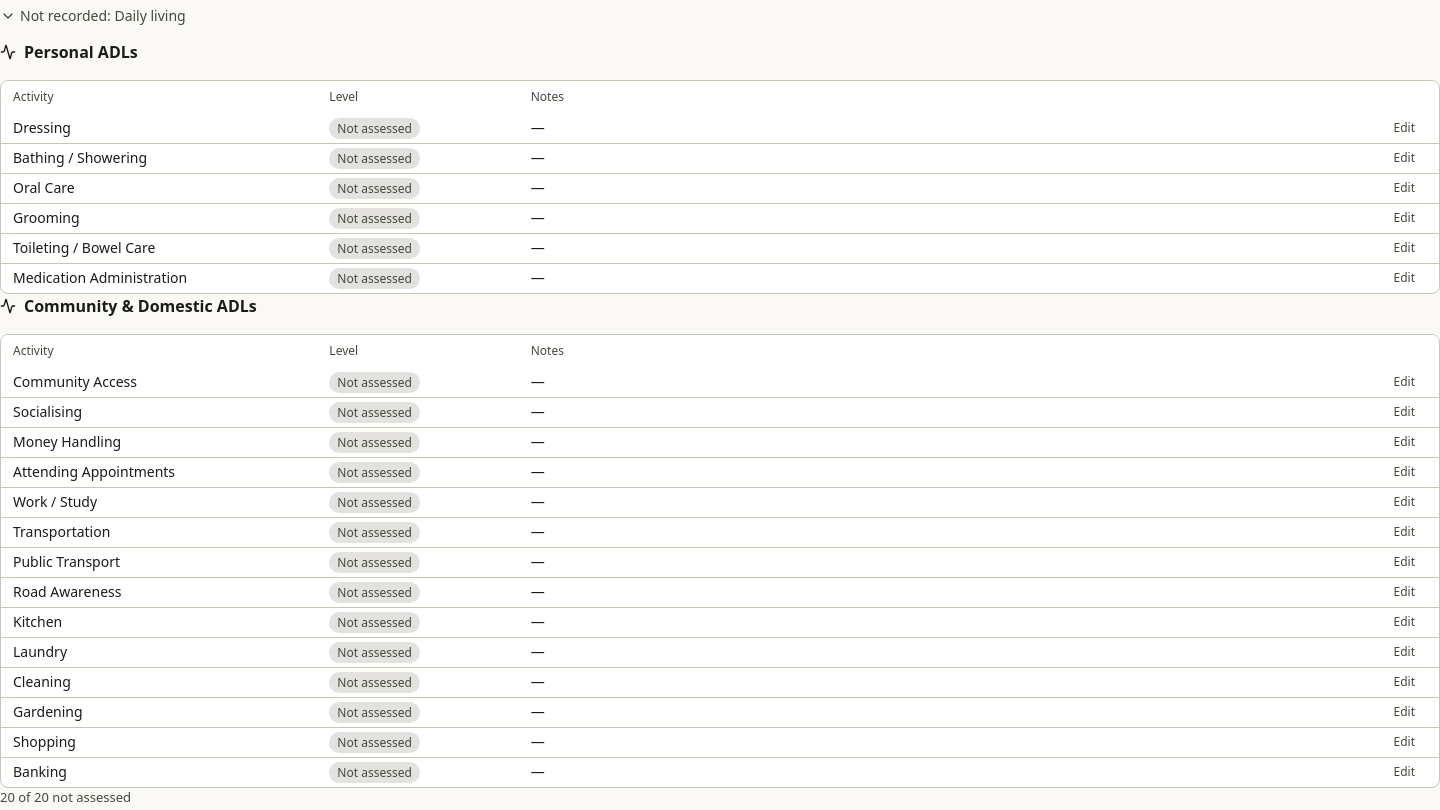
Test case: ParticipantAdlAssessmentsSection › the modal exposes a real accessible name on the Level radiogroup
Click the button "Edit" in the row of "Grooming". click: coordinates (1404, 218)
box: [1382,206,1427,230]
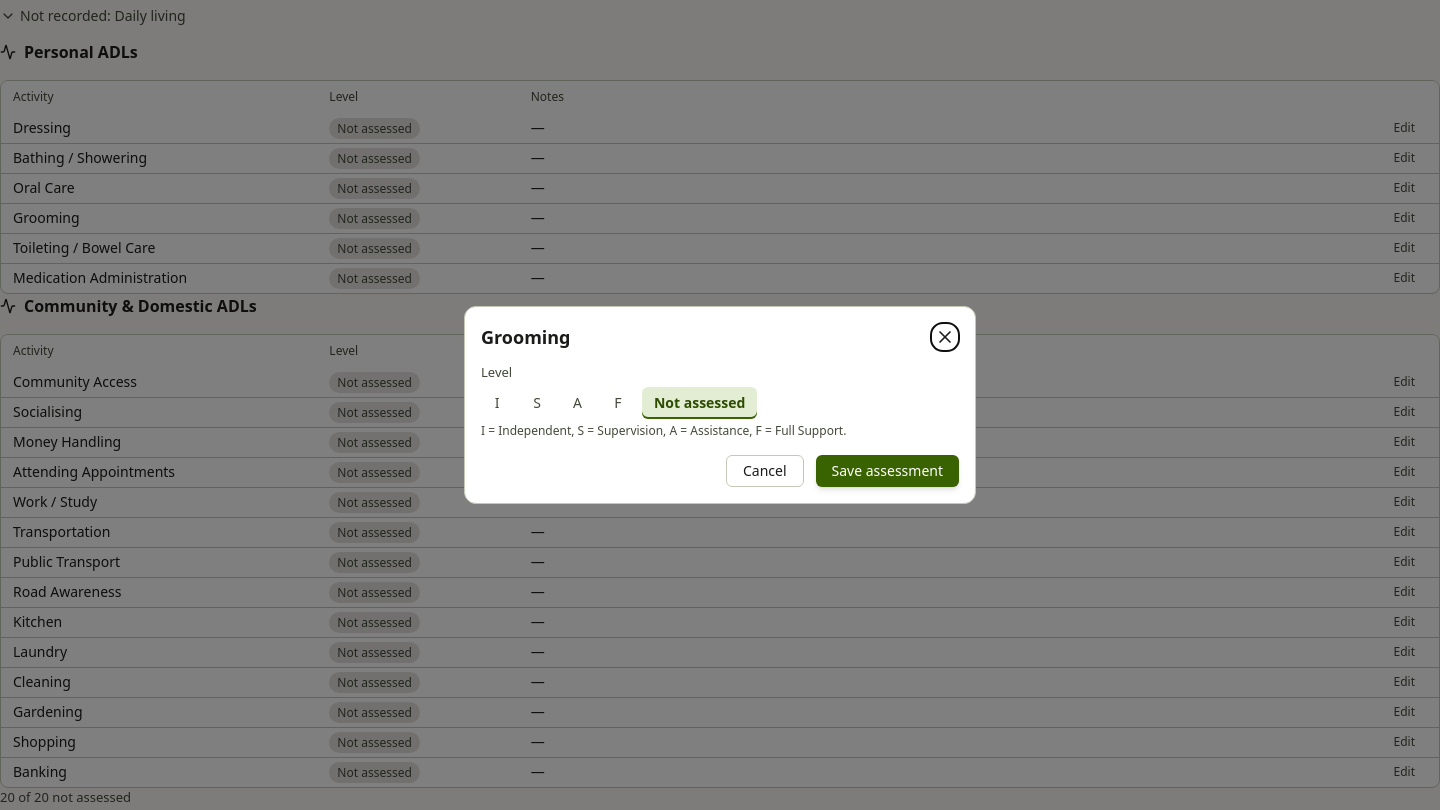
Result: the element named "Level" is shown at [481,387,757,419]
